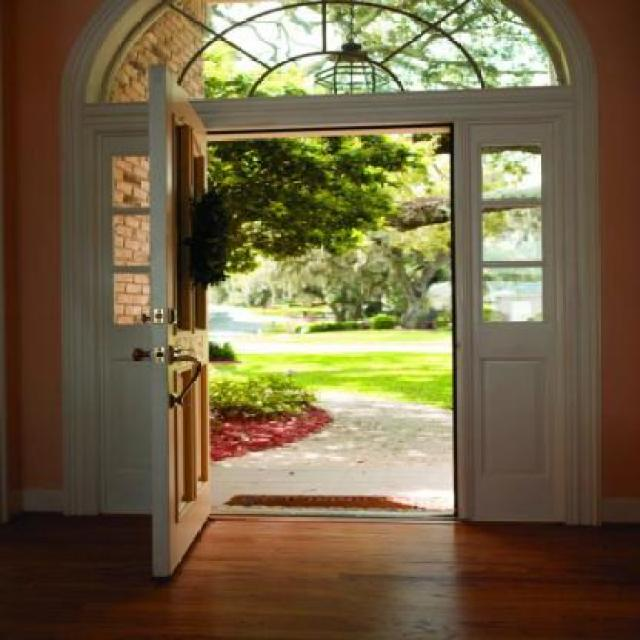door_local: (136, 58, 583, 570)
